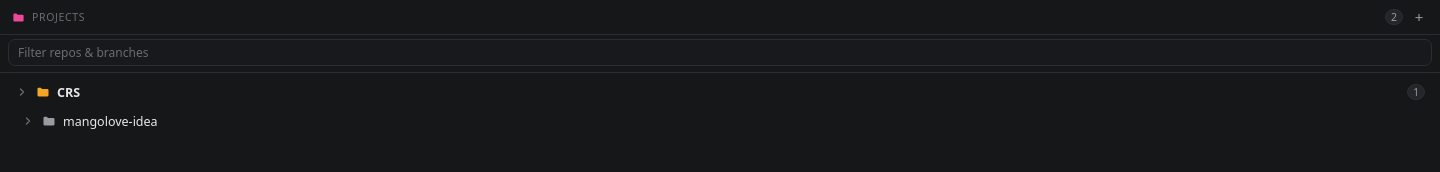
Test: <ProjectTree> › filtering by branch reveals the repo force-expanded with only the matching worktree
Type "feature" into the search field with test id "project-filter" at (720, 52), box [8,39,1432,66]
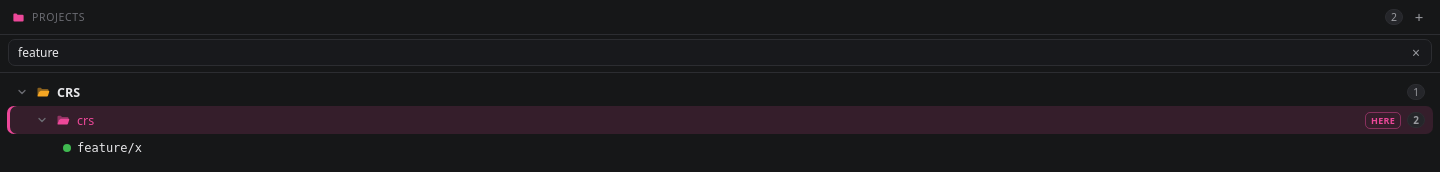
Now the list item with test id "repo-node-crs" is shown, box [7,106,1433,134]
Now the number of list items with test id "worktree-item" is 1, box [63,141,142,155]
Now the text "feature/x" is shown, box [77,141,142,155]
